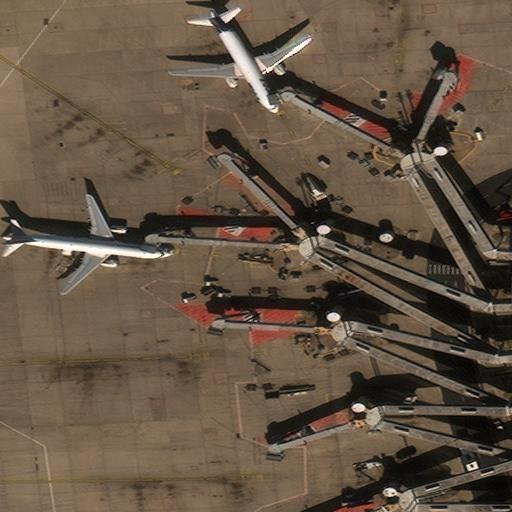Medium Civil Transport: (2, 195, 172, 293), (168, 10, 310, 112)
